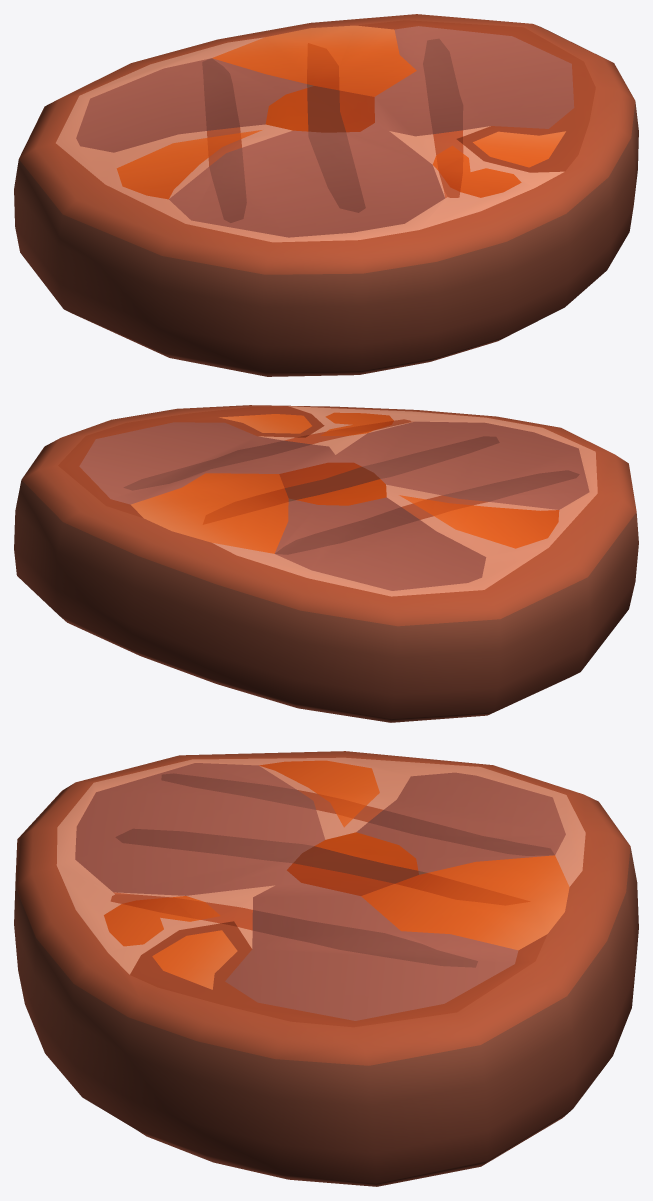
The model's file is lamb_fried_001.fbx.
3 views of the same model, one above another, from view 1: azimuth 30°, elevation 25°; view 2: azimuth 150°, elevation 25°; view 3: azimuth 270°, elevation 25° (orthographic). The views are drawn at different scales.
Parts seen in each view (by area): view 1: lamb_fried_001; view 2: lamb_fried_001; view 3: lamb_fried_001.
Part boxes in pixels (left/top/right/bottom): lamb_fried_001: left=14, top=14, right=638, bottom=376; lamb_fried_001: left=14, top=405, right=638, bottom=722; lamb_fried_001: left=14, top=751, right=638, bottom=1186.
Size of the model in its own units: 18.47 by 15.17 by 4.59.
